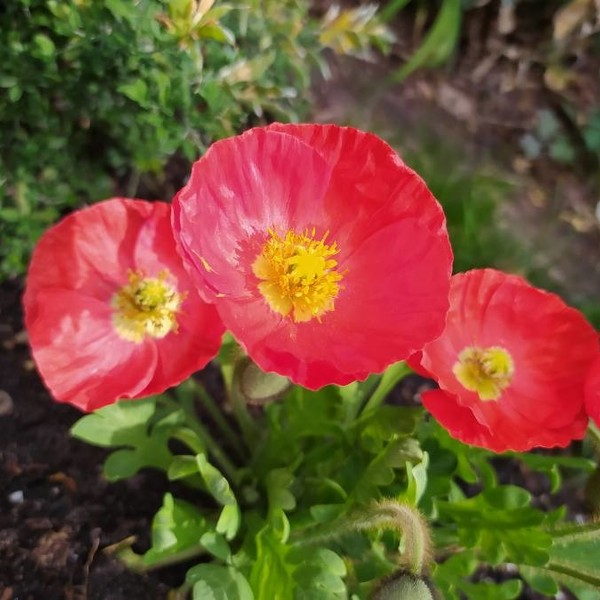obstacle: (15, 121, 559, 591)
